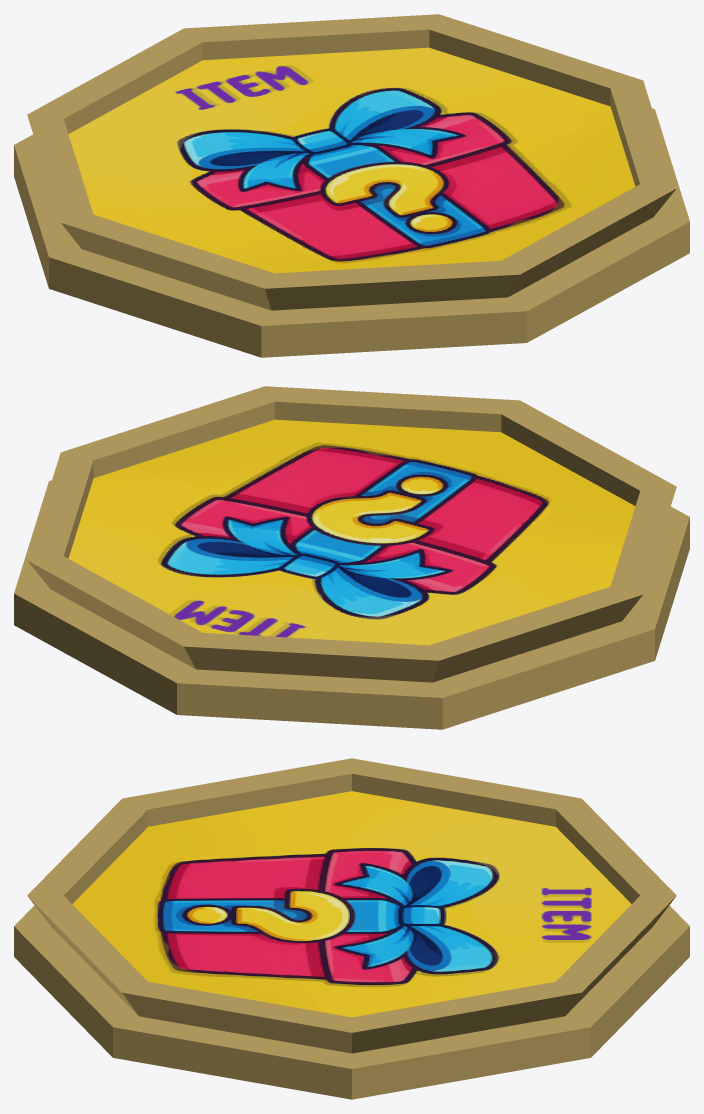
File: tile1 cdparty.fbx
3 views of the same model, one above another, from view 1: azimuth 30°, elevation 25°; view 2: azimuth 150°, elevation 25°; view 3: azimuth 270°, elevation 25° (orthographic). The views are drawn at different scales.
Visible parts, largest first — view 1: pCylinder3; view 2: pCylinder3; view 3: pCylinder3.
Part boxes in pixels (x1,y1,x2,y2): pCylinder3: (14,14,689,357); pCylinder3: (14,386,689,729); pCylinder3: (14,758,689,1099).
Size of the model in its own units: 2 by 0.2 by 2.
Materials: 2 (1 with a texture image).
